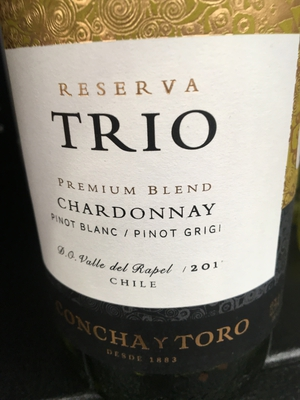trio chardonnay: (5, 12, 300, 389)
